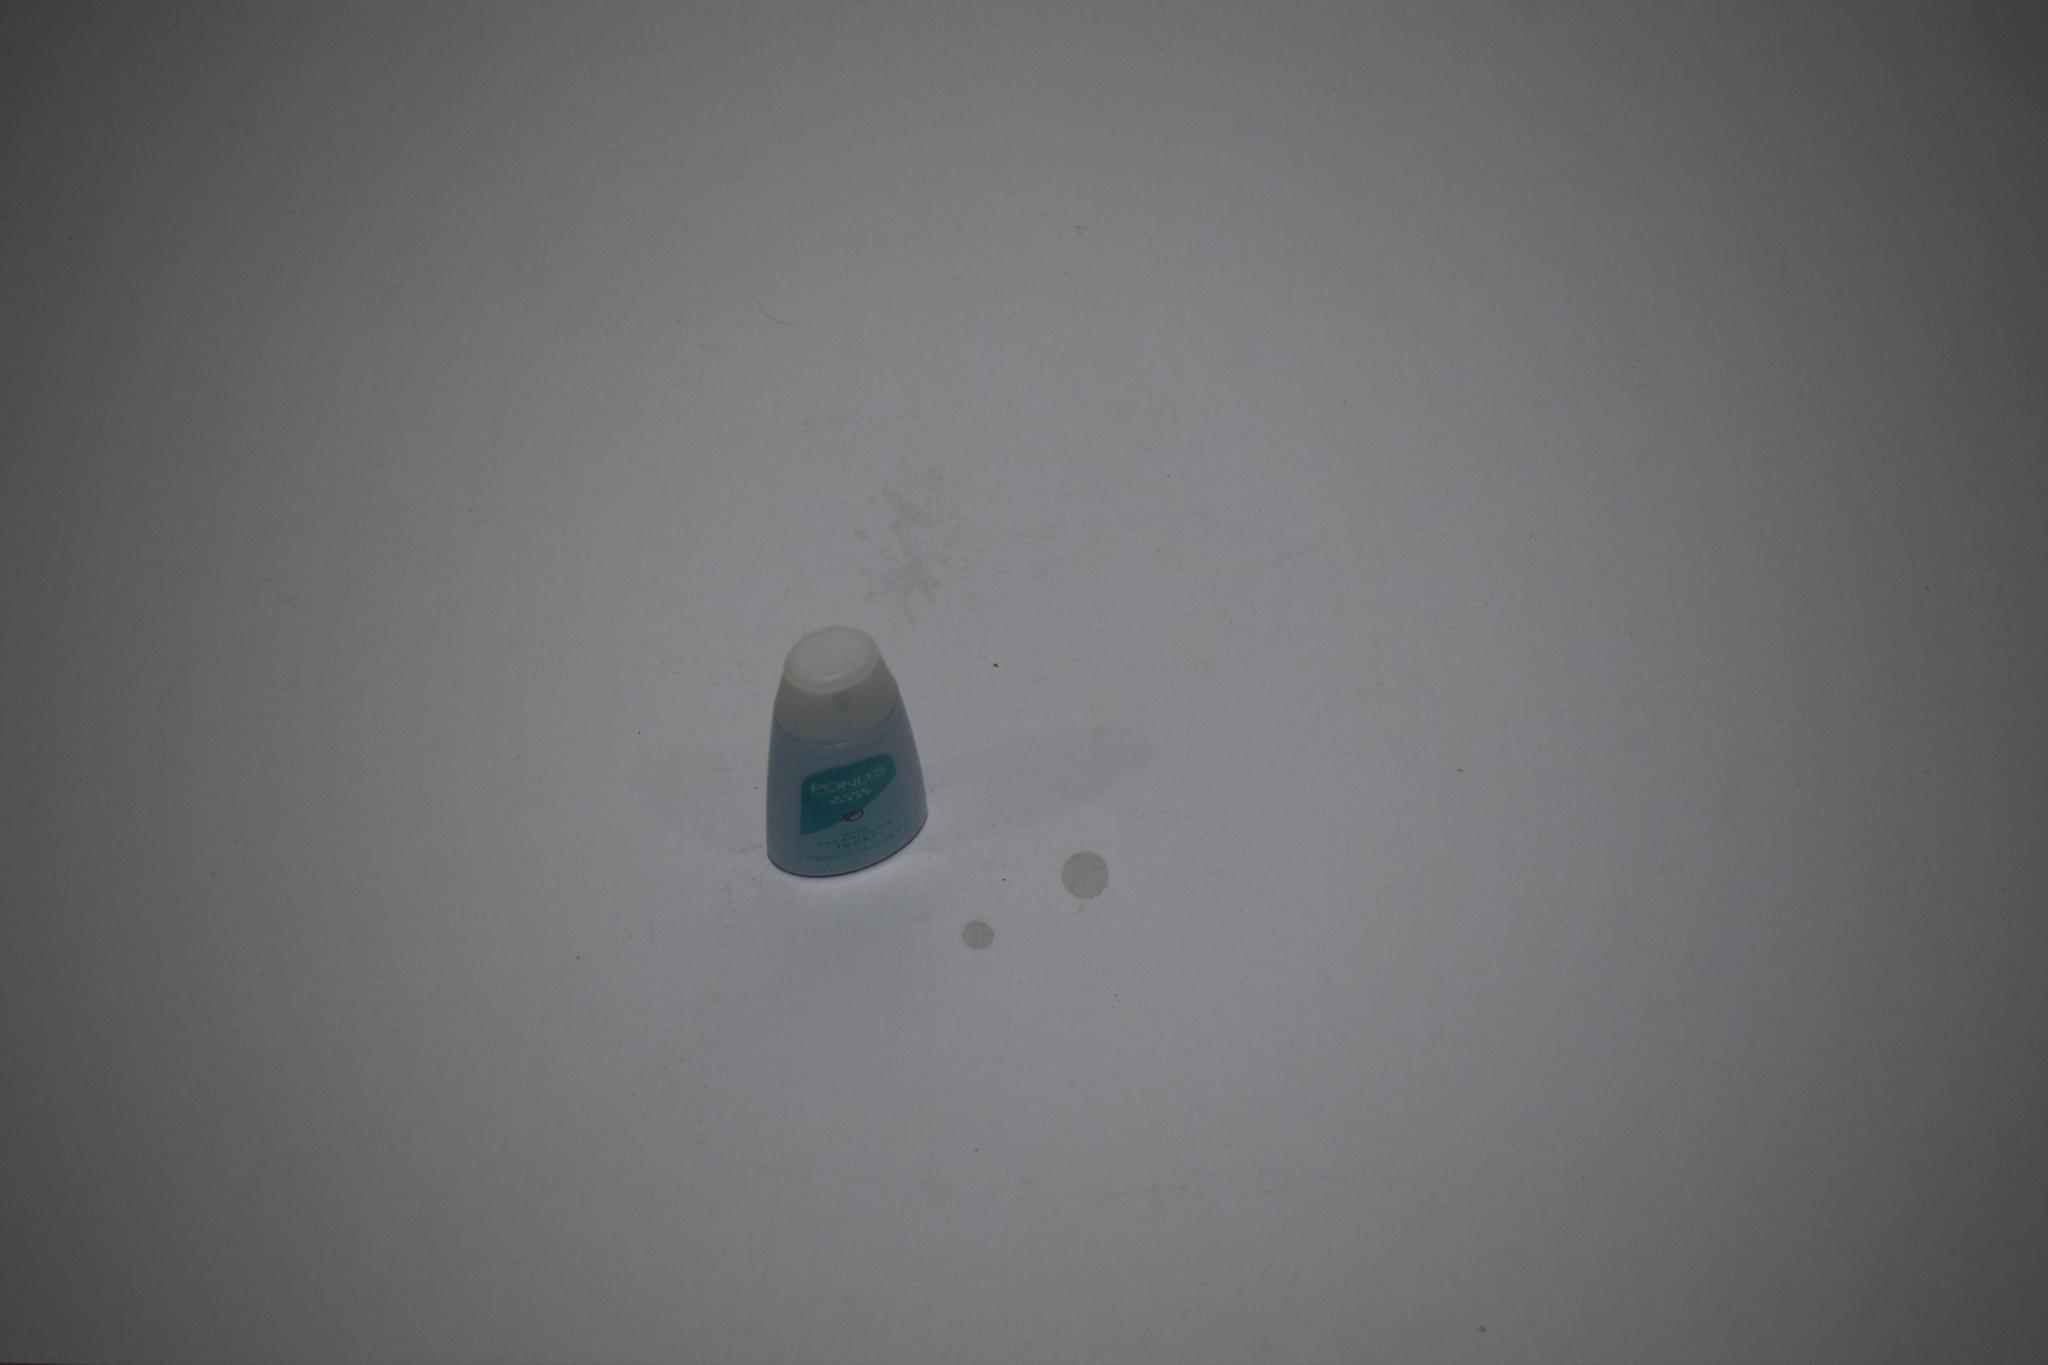bottle: (744, 617, 946, 895)
